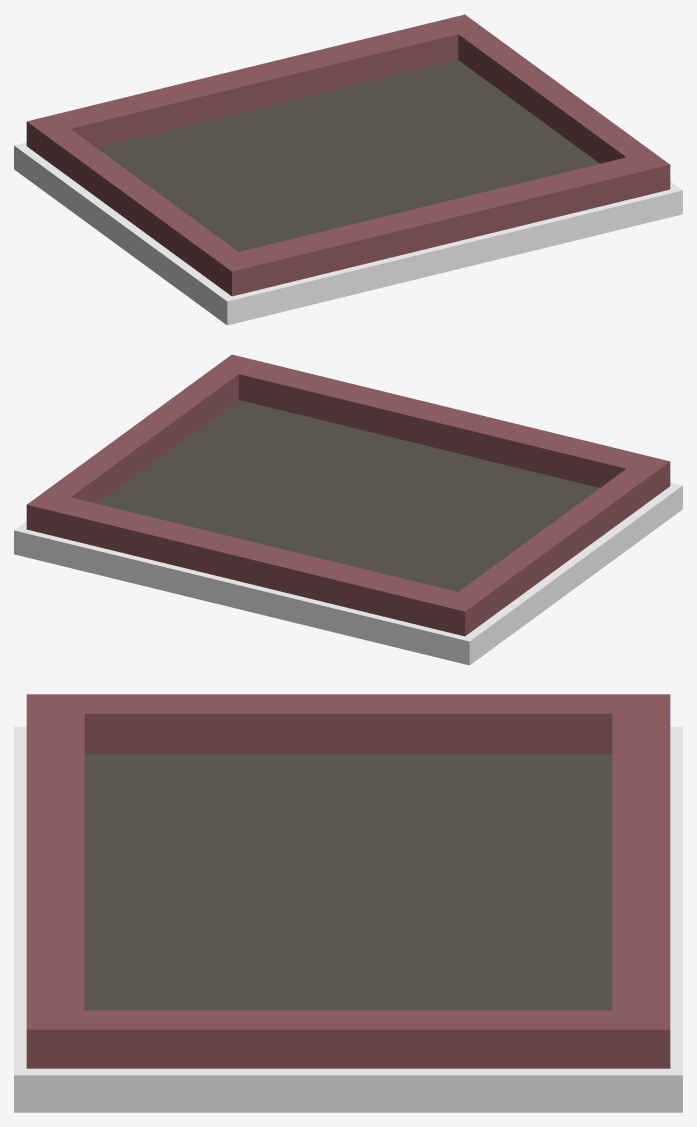
Rendered from CityBuildingB_04_roof.fbx.
3 renders of one model, top to bottom at view 1: azimuth 30°, elevation 25°; view 2: azimuth 150°, elevation 25°; view 3: azimuth 270°, elevation 25°, orthographic. The views are drawn at different scales.
Visible parts, largest first — view 1: CityBuildingB_04_roof; view 2: CityBuildingB_04_roof; view 3: CityBuildingB_04_roof.
Boxes of the visible parts, <box> form: CityBuildingB_04_roof: <box>14,14,682,325</box>; CityBuildingB_04_roof: <box>14,354,682,665</box>; CityBuildingB_04_roof: <box>14,694,682,1112</box>.
Bounding box in the file's own units: 0.6971 × 0.0713 × 0.5653.
